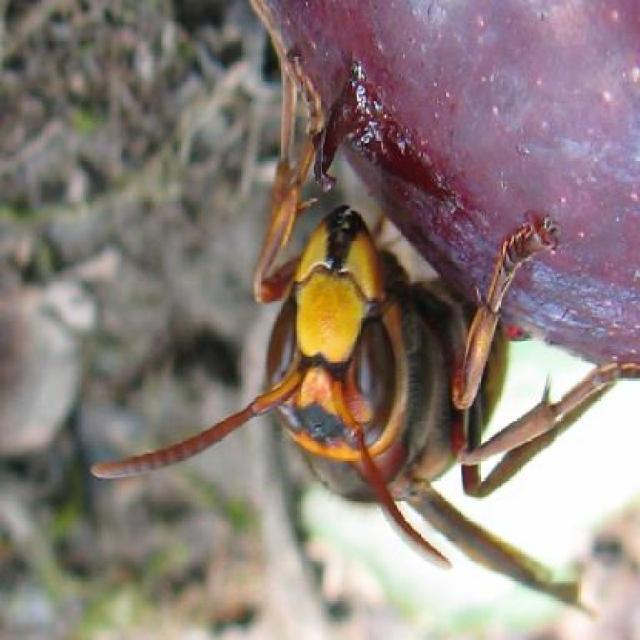Wasp: (78, 66, 636, 612)
